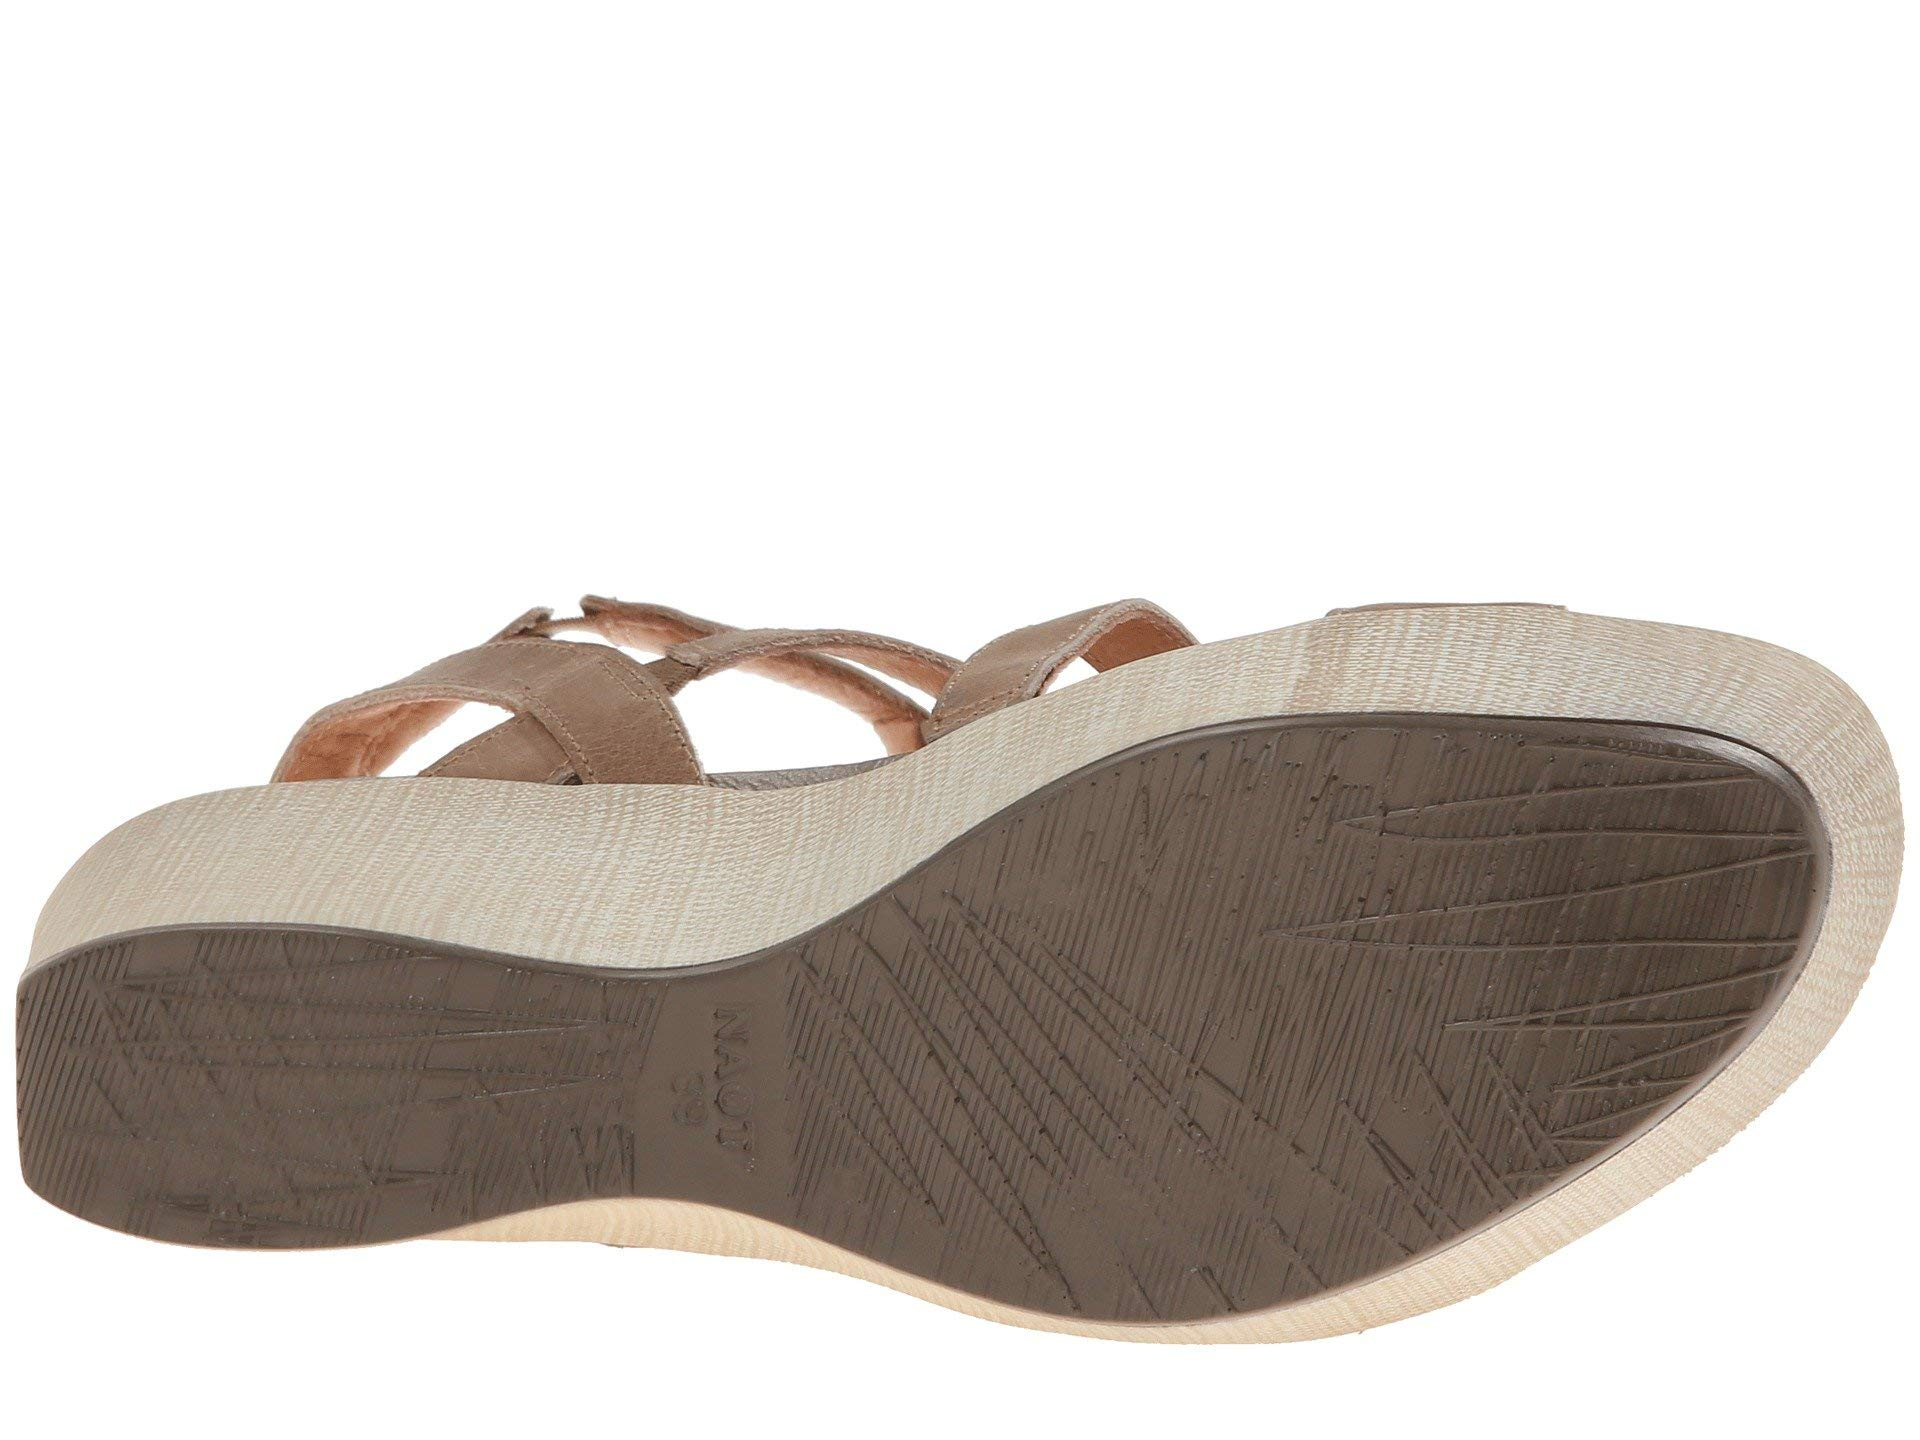line: (871, 945, 1332, 1246), (57, 967, 596, 1168), (1234, 836, 1811, 973)
triangle: (1234, 836, 1811, 973)
